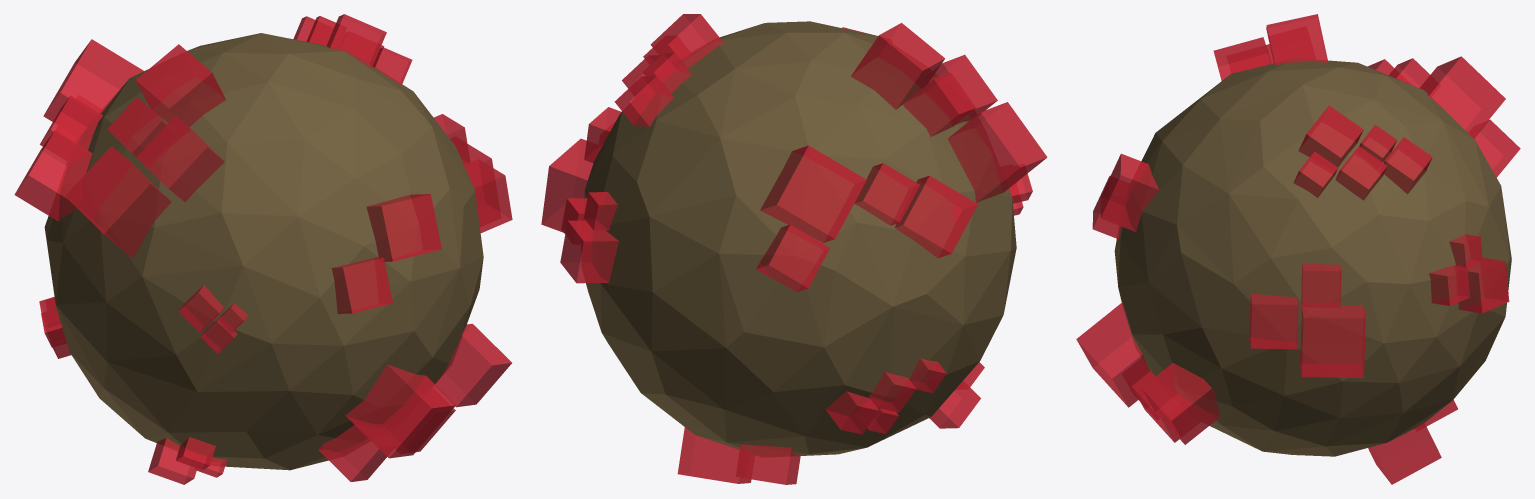
The model's file is ore_planet7.fbx.
3 renders of one model, left to right at view 1: azimuth 30°, elevation 25°; view 2: azimuth 150°, elevation 25°; view 3: azimuth 270°, elevation 25°, orthographic. The views are drawn at different scales.
Visible parts, largest first — view 1: ore_planet7; view 2: ore_planet7; view 3: ore_planet7.
Part boxes in pixels (box(x1,y1,x2,y2)): ore_planet7: box(14, 14, 512, 484); ore_planet7: box(541, 14, 1047, 484); ore_planet7: box(1076, 14, 1520, 484).
Bounding box in the file's own units: 234 × 226 × 223.
